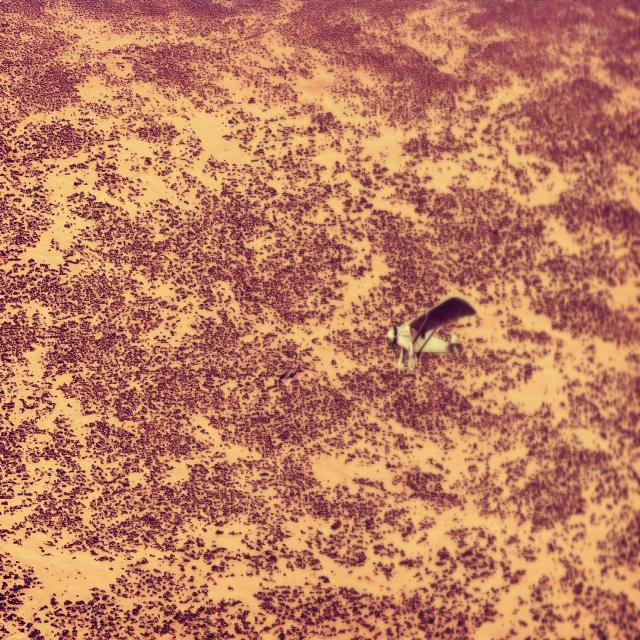airplane: (386, 293, 476, 372)
